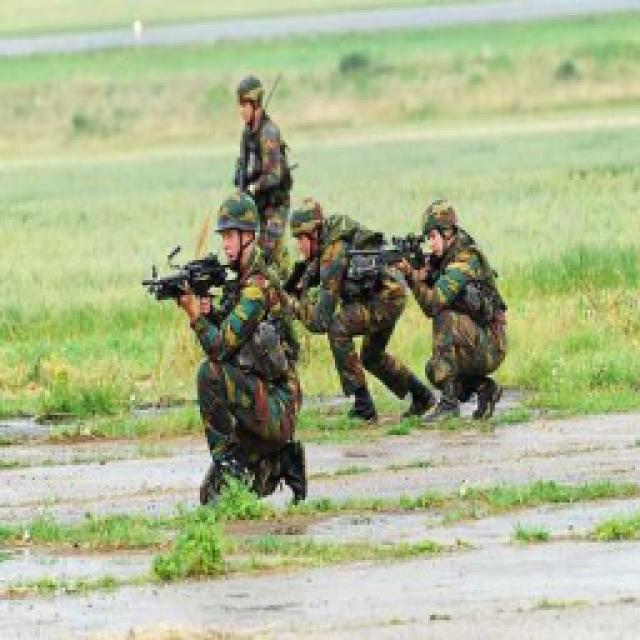long weapon: (124, 245, 223, 315), (346, 230, 429, 274)
